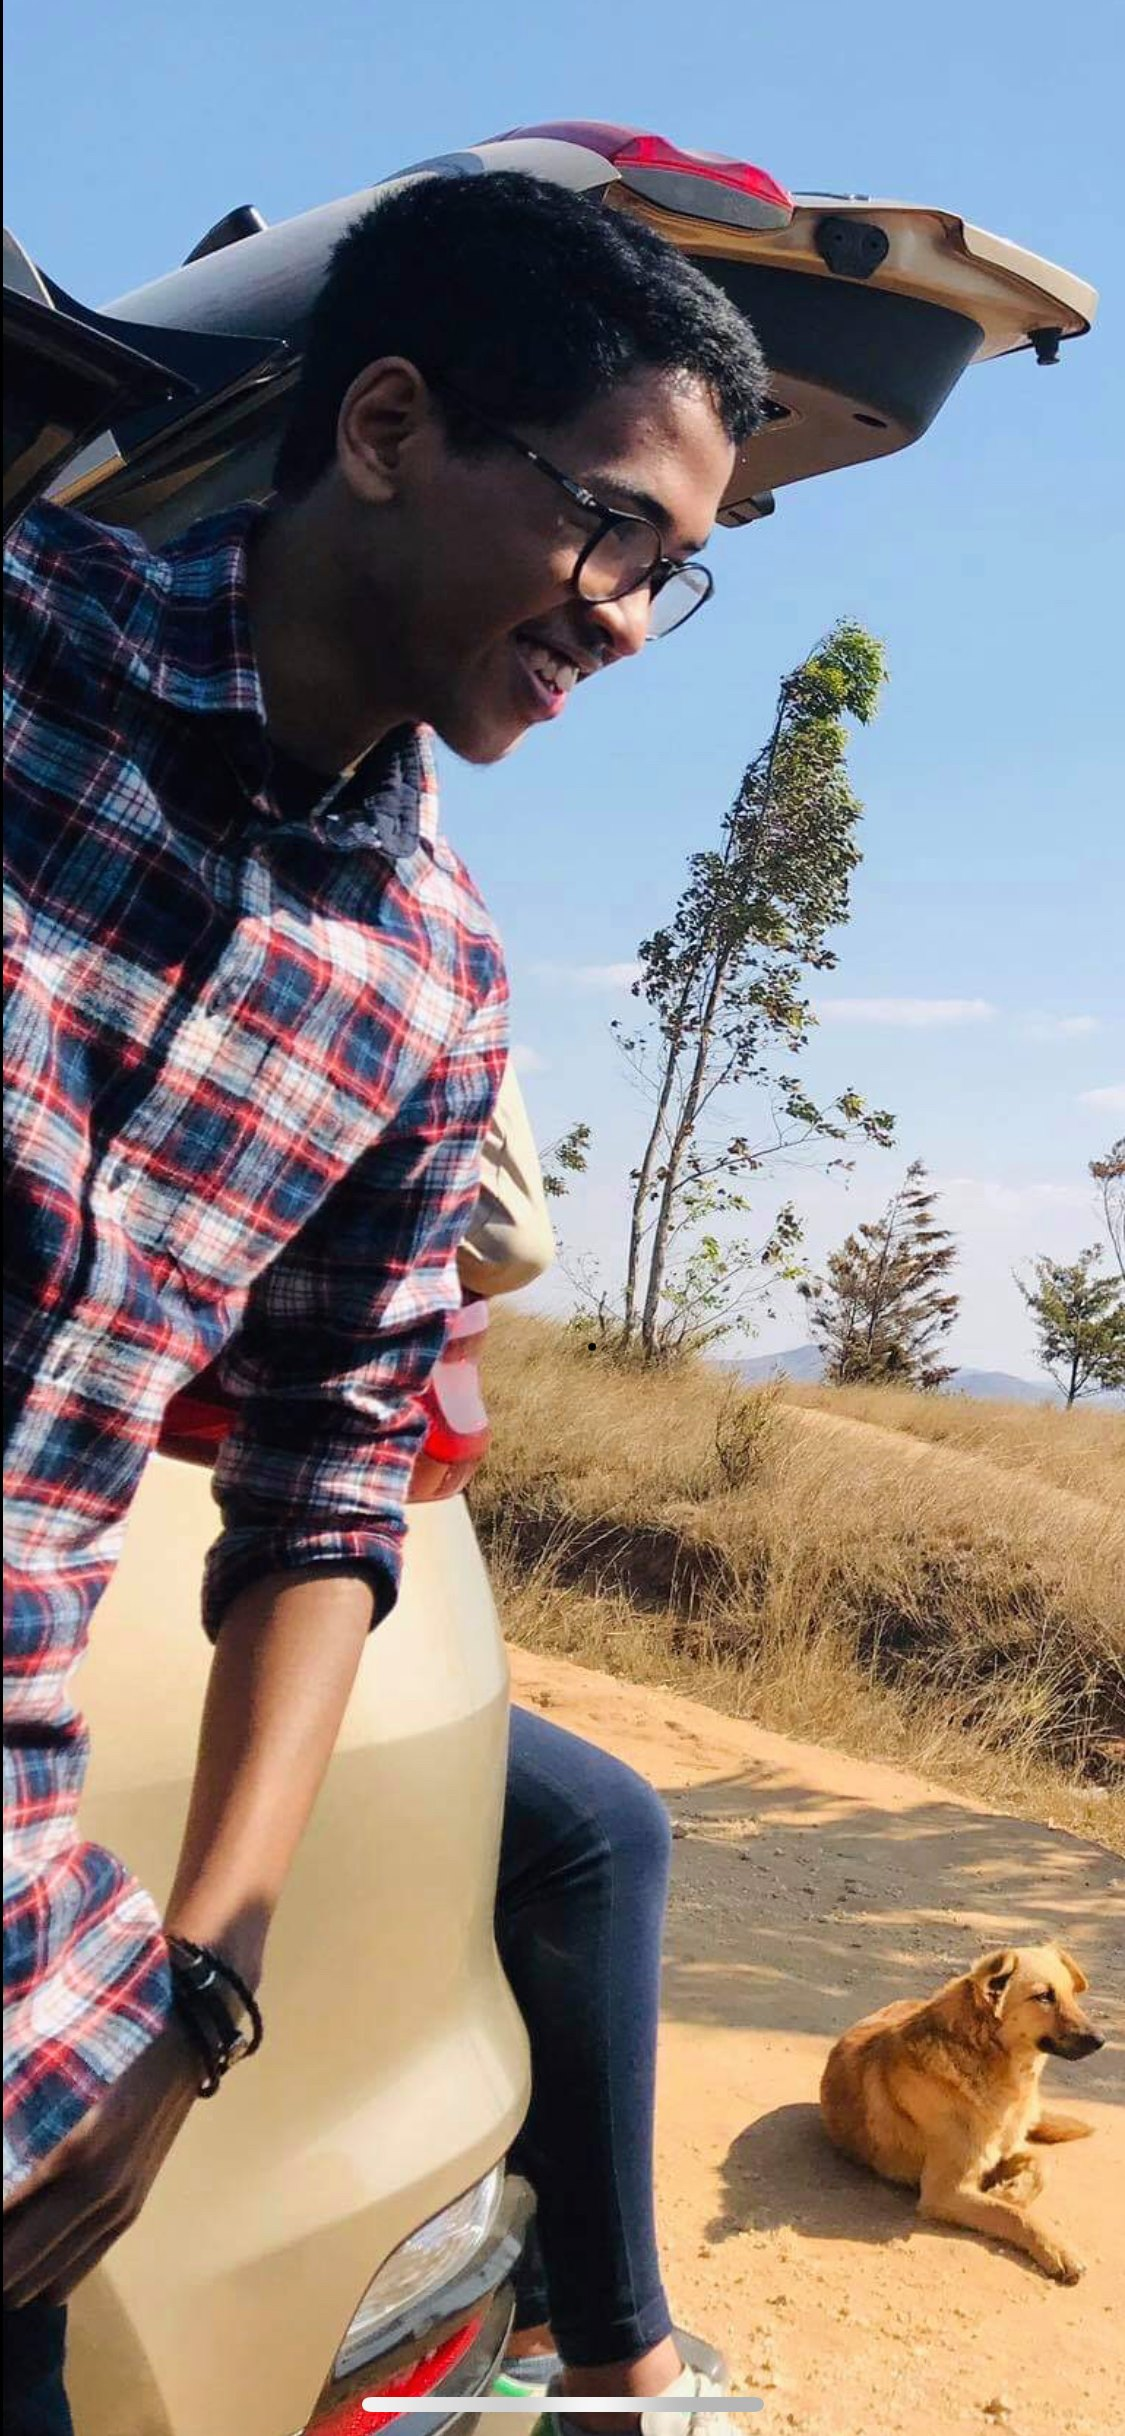BOY: (298, 173, 741, 780)
